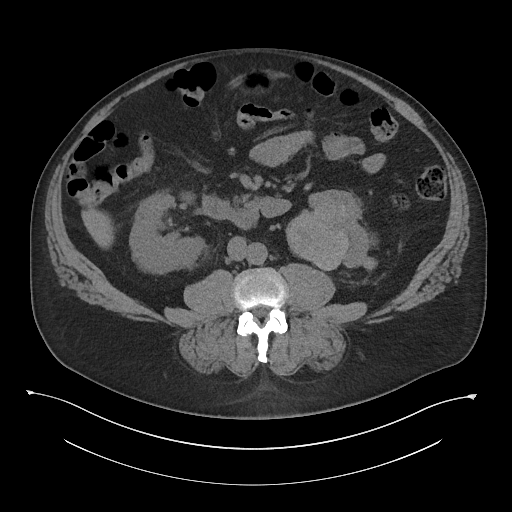Lesion: (284, 211, 350, 273)
